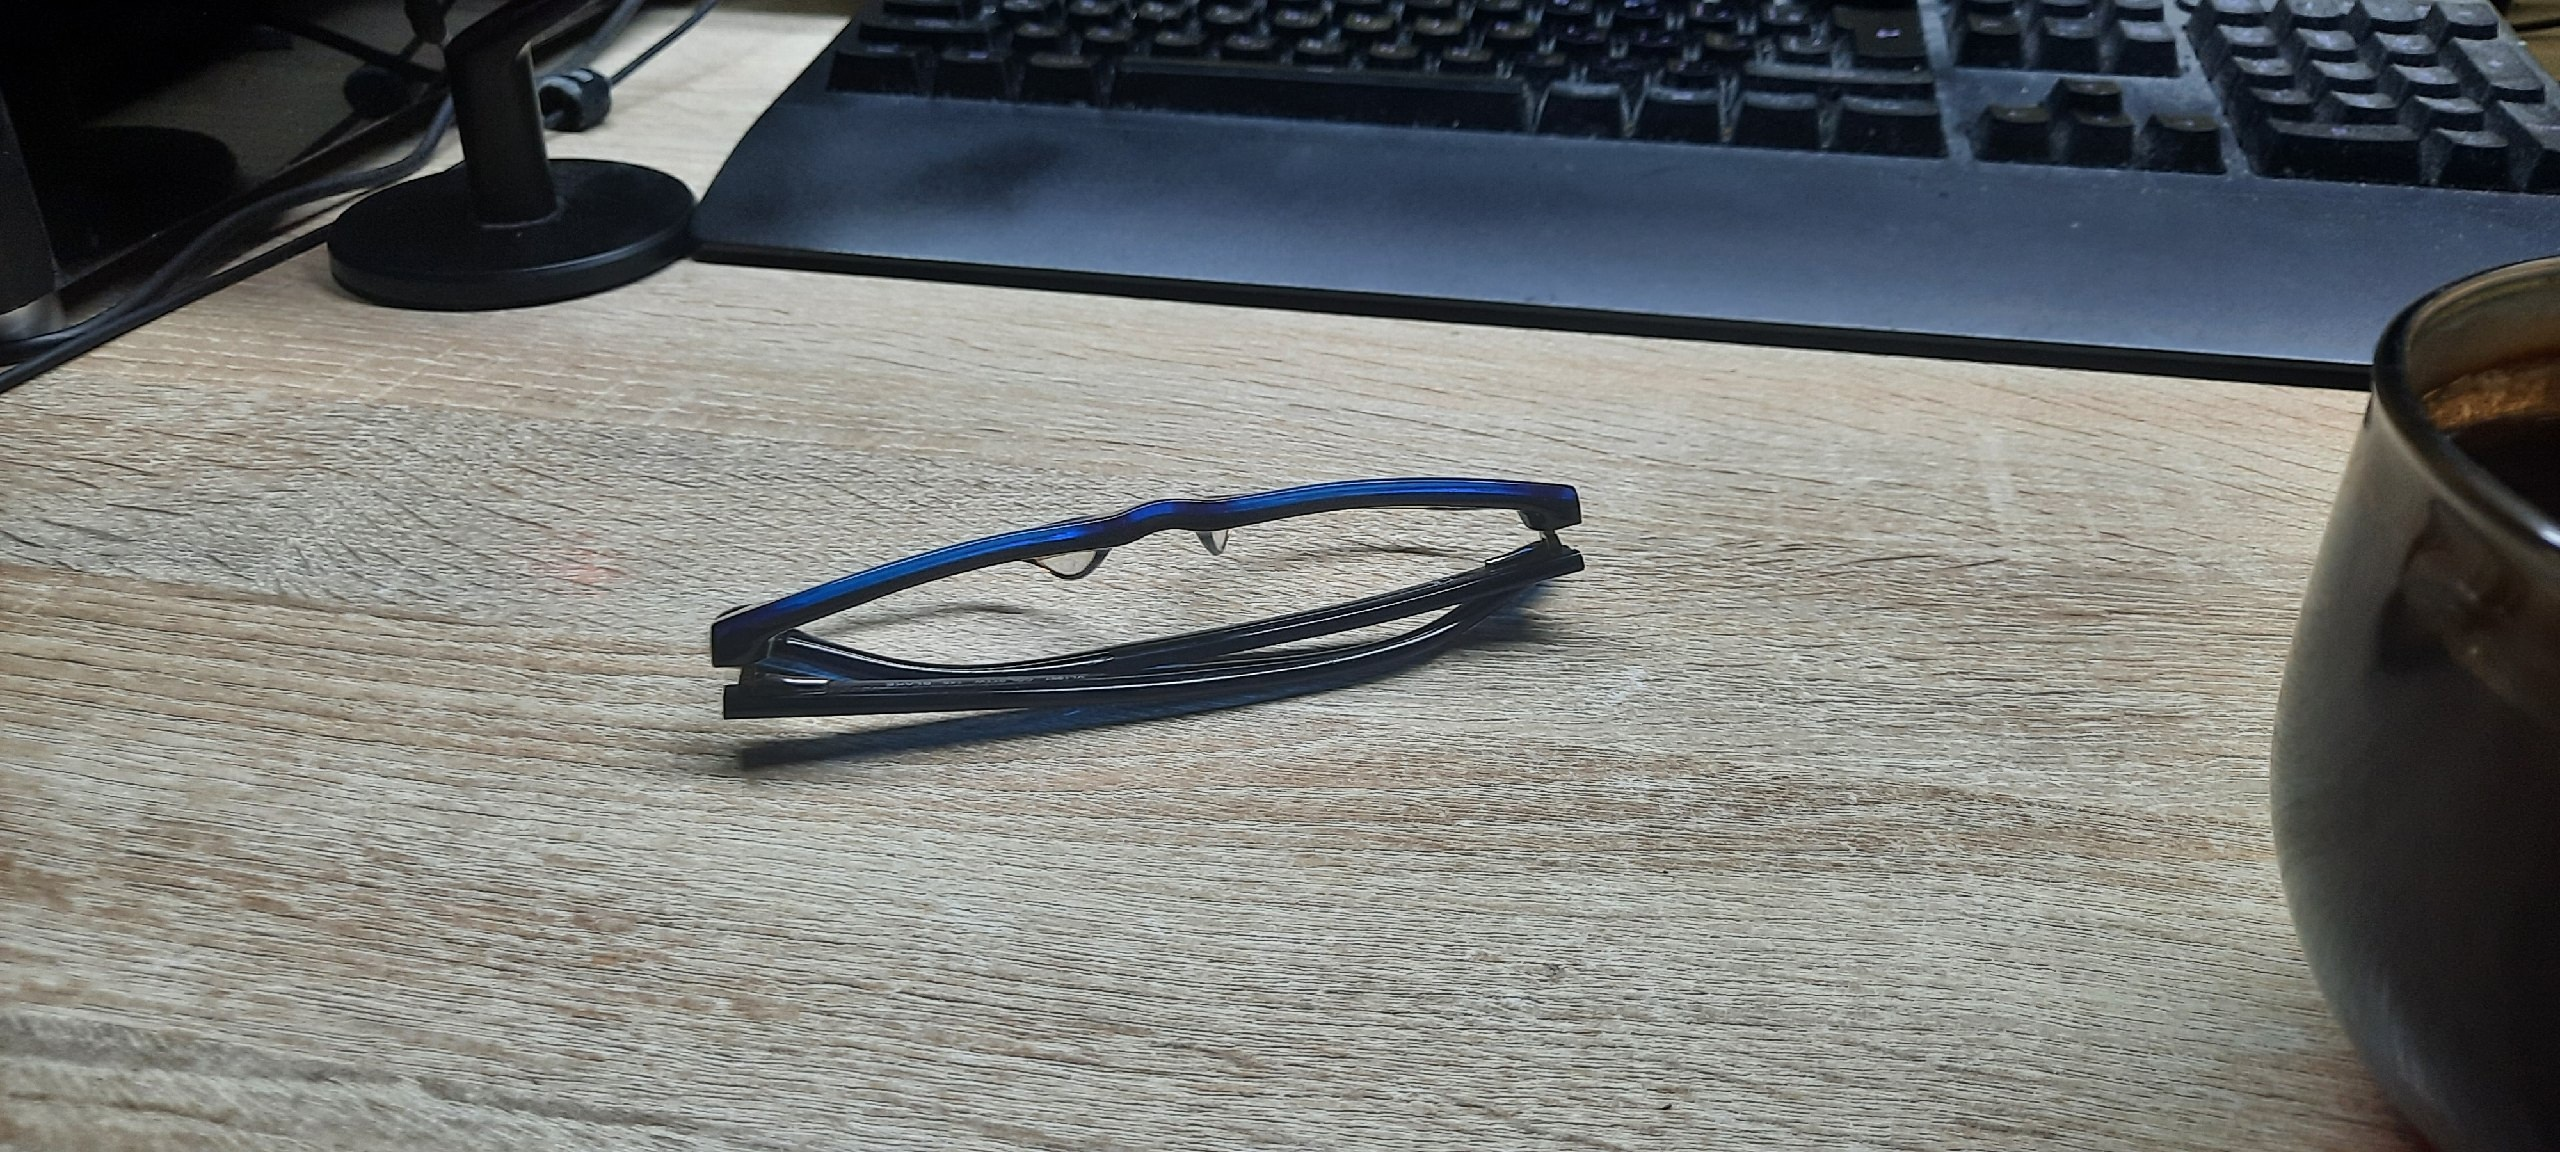glasses: (710, 478, 1580, 720)
